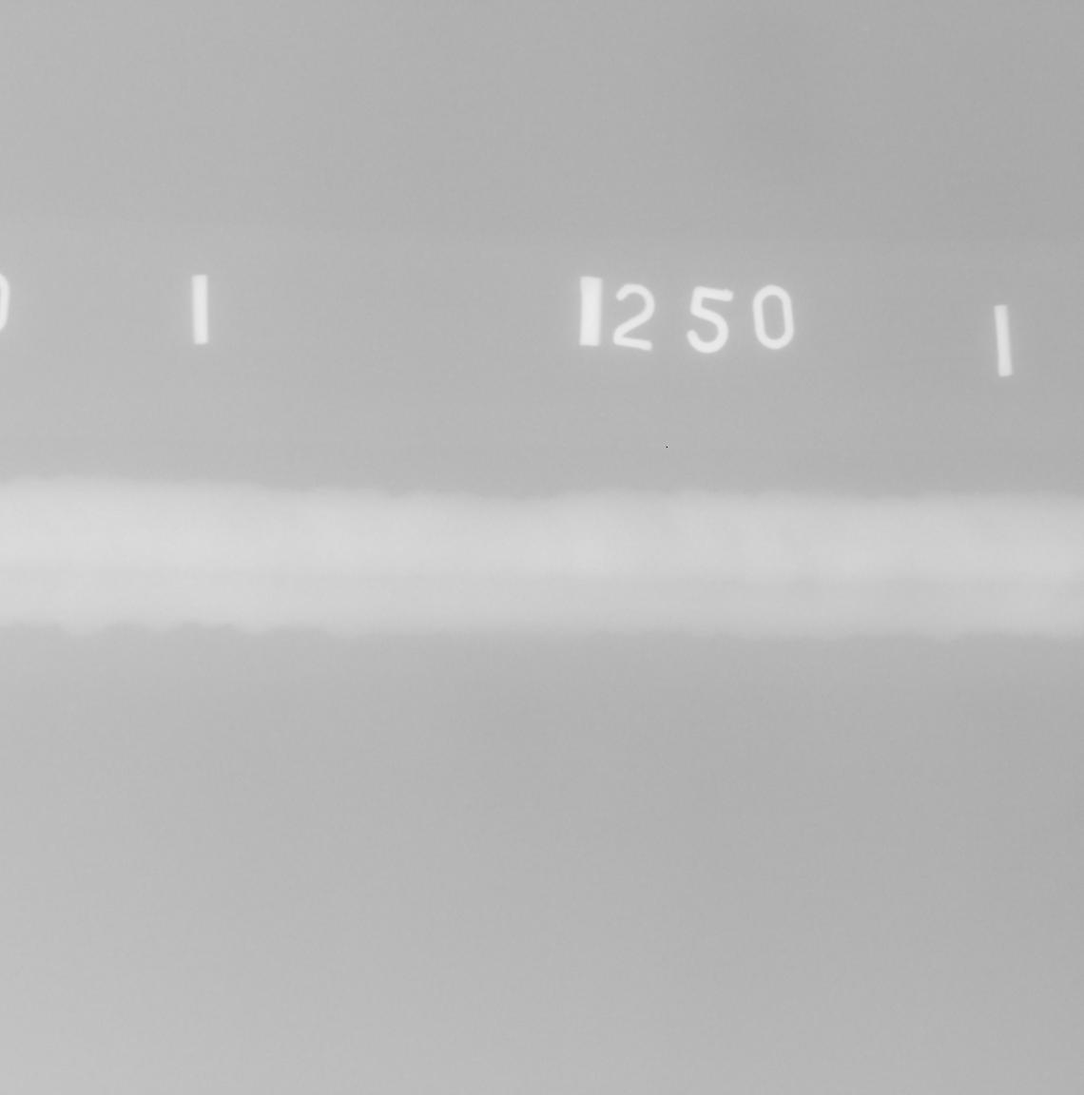Inclusion: (169, 527, 177, 541)
